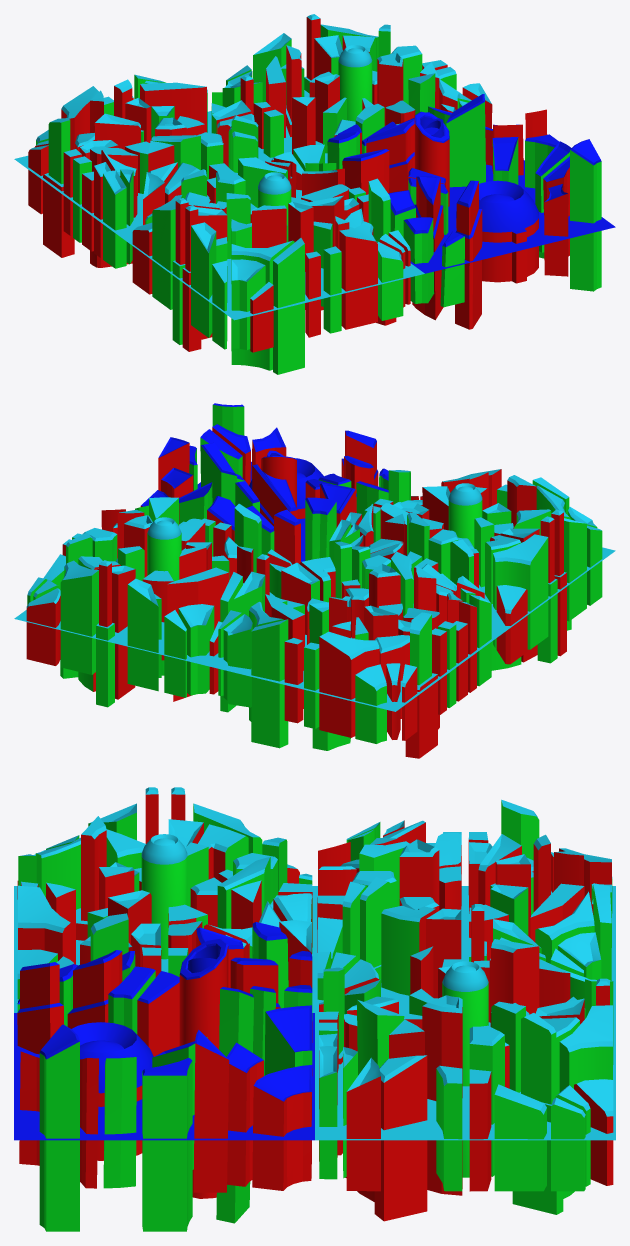
File: mesh_placa_metronia_02.FBX
3 views of the same model, one above another, from view 1: azimuth 30°, elevation 25°; view 2: azimuth 150°, elevation 25°; view 3: azimuth 270°, elevation 25° (orthographic). The views are drawn at different scales.
Visible parts, largest first — view 1: Placa_metronia_02; view 2: Placa_metronia_02; view 3: Placa_metronia_02.
Part boxes in pixels (<box>): Placa_metronia_02: <box>14,14,615,374</box>; Placa_metronia_02: <box>14,403,615,758</box>; Placa_metronia_02: <box>14,787,615,1231</box>.
Size of the model in its own units: 20 by 8.92 by 20.
